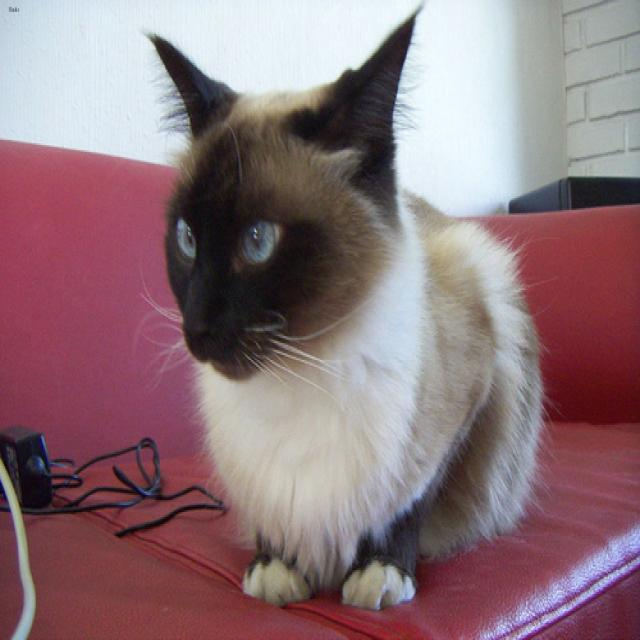Birman: (141, 7, 429, 386)
